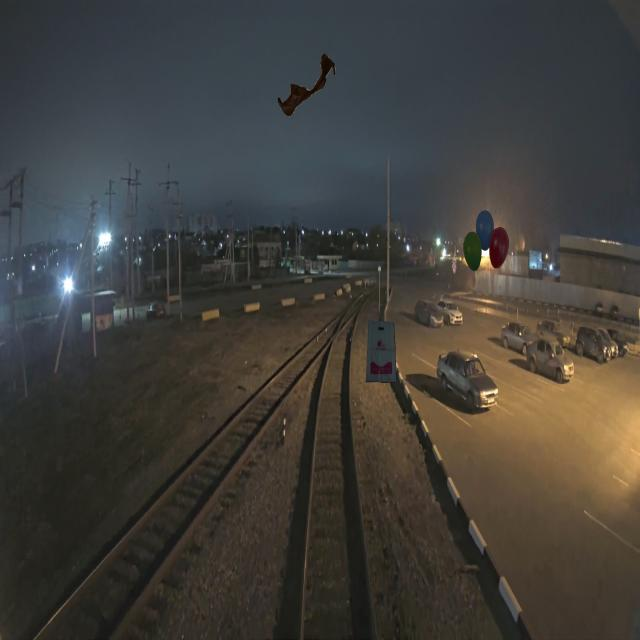balloon: (464, 208, 509, 272)
floating object: (278, 52, 336, 116)
plastic bag: (366, 320, 396, 384)
